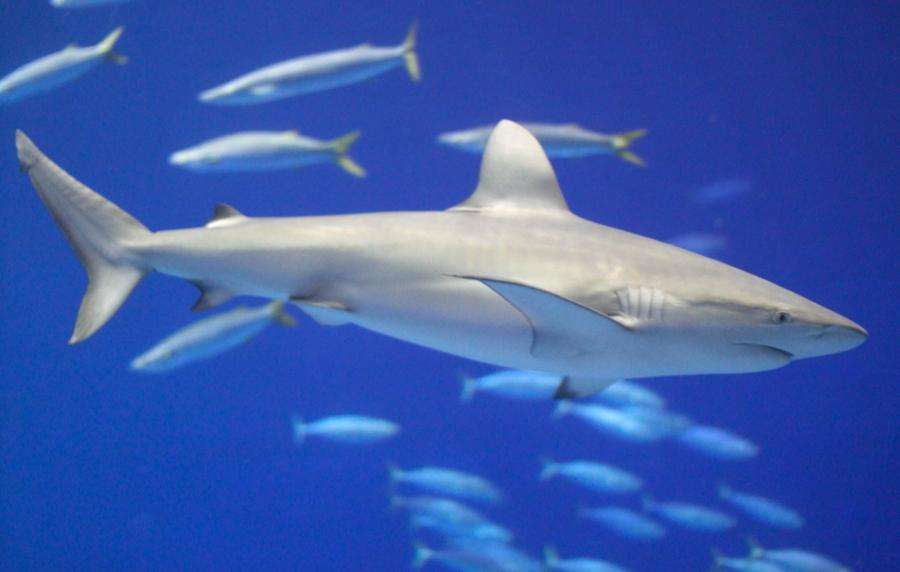shark: (13, 110, 857, 393)
